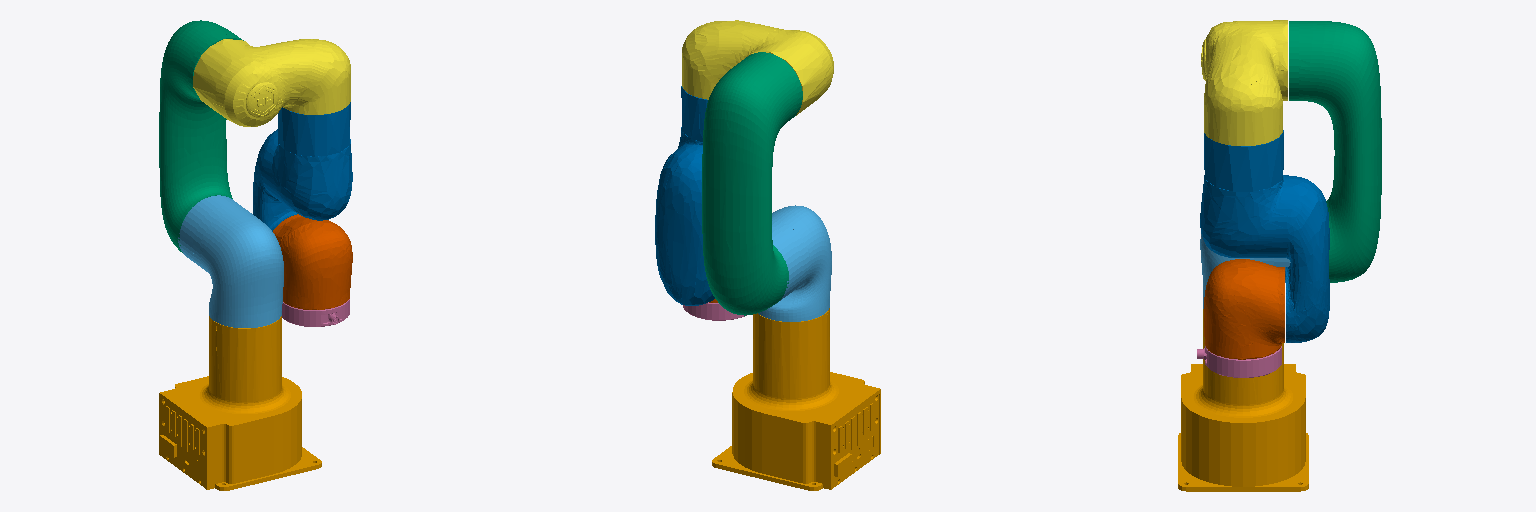
robot.urdf — lite6:
<?xml version="1.0"?>
<robot name="lite6">
  <link name="link_base"><visual><geometry><mesh filename="meshes/link_base.stl"/></geometry></visual></link>
  <link name="link1"><visual><geometry><mesh filename="meshes/link1.stl"/></geometry></visual></link>
  <link name="link2"><visual><geometry><mesh filename="meshes/link2.stl"/></geometry></visual></link>
  <link name="link3"><visual><geometry><mesh filename="meshes/link3.stl"/></geometry></visual></link>
  <link name="link4"><visual><geometry><mesh filename="meshes/link4.stl"/></geometry></visual></link>
  <link name="link5"><visual><geometry><mesh filename="meshes/link5.stl"/></geometry></visual></link>
  <link name="link6"><visual><geometry><mesh filename="meshes/link6.stl"/></geometry></visual></link>
  <joint name="joint1" type="revolute"><parent link="link_base"/><child link="link1"/><origin xyz="0 0 0.2435" rpy="0 0 0"/><axis xyz="0 0 1"/><limit lower="-6.283185" upper="6.283185" effort="50" velocity="3"/></joint>
  <joint name="joint2" type="revolute"><parent link="link1"/><child link="link2"/><origin xyz="0 0 0" rpy="1.5708 -1.5708 3.1416"/><axis xyz="0 0 1"/><limit lower="-2.61799" upper="2.61799" effort="50" velocity="3"/></joint>
  <joint name="joint3" type="revolute"><parent link="link2"/><child link="link3"/><origin xyz="0.2002 0 0" rpy="-3.1416 0 1.5708"/><axis xyz="0 0 1"/><limit lower="-0.061087" upper="5.235988" effort="50" velocity="3"/></joint>
  <joint name="joint4" type="revolute"><parent link="link3"/><child link="link4"/><origin xyz="0.087 -0.22761 0" rpy="1.5708 0 0"/><axis xyz="0 0 1"/><limit lower="-6.283185" upper="6.283185" effort="50" velocity="3"/></joint>
  <joint name="joint5" type="revolute"><parent link="link4"/><child link="link5"/><origin xyz="0 0 0" rpy="1.5708 0 0"/><axis xyz="0 0 1"/><limit lower="-2.1642" upper="2.1642" effort="50" velocity="3"/></joint>
  <joint name="joint6" type="revolute"><parent link="link5"/><child link="link6"/><origin xyz="0 0.0625 0" rpy="-1.5708 0 0"/><axis xyz="0 0 1"/><limit lower="-6.283185" upper="6.283185" effort="50" velocity="3"/></joint>
</robot>

--- Facts derived from the render (not from the file) ---
The picture shows the robot from 3 angles, left to right: view 1: azimuth 30°, elevation 25°; view 2: azimuth 150°, elevation 25°; view 3: azimuth 270°, elevation 25°; orthographic projection.
Model lite6 with 7 links and 6 joints (6 revolute), rooted at link_base, posed every joint at zero.
Visible links, largest first — view 1: link_base, link3, link2, link1, link4, link5, link6; view 2: link_base, link2, link4, link3, link1, link6; view 3: link4, link2, link_base, link3, link5, link6, link1.
Link boxes in pixels (left/top/right/bottom): link_base: left=159, top=316, right=321, bottom=490; link3: left=193, top=39, right=350, bottom=126; link2: left=159, top=20, right=243, bottom=252; link1: left=178, top=195, right=283, bottom=327; link4: left=253, top=102, right=352, bottom=231; link5: left=273, top=214, right=352, bottom=309; link6: left=282, top=299, right=349, bottom=326; link_base: left=712, top=308, right=880, bottom=490; link2: left=702, top=52, right=802, bottom=315; link4: left=655, top=86, right=714, bottom=305; link3: left=682, top=20, right=833, bottom=115; link1: left=758, top=205, right=831, bottom=321; link6: left=683, top=302, right=746, bottom=320; link4: left=1200, top=130, right=1329, bottom=342; link2: left=1289, top=21, right=1381, bottom=282; link_base: left=1178, top=309, right=1308, bottom=491; link3: left=1201, top=20, right=1287, bottom=145; link5: left=1204, top=259, right=1284, bottom=359; link6: left=1197, top=346, right=1281, bottom=377; link1: left=1200, top=234, right=1290, bottom=308.
Size in the robot's own frame: 0.2099 by 0.2026 by 0.4842 metres.
Meshes: 7 distinct files referenced, 7 mesh visuals loaded (7 binary STL).
